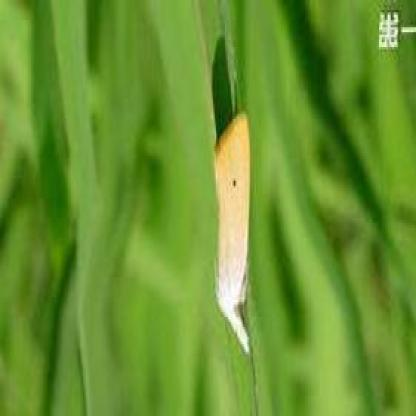stem-borer: (214, 107, 251, 356)
